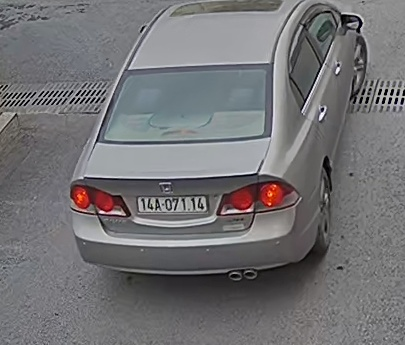vehicle plate: (136, 192, 212, 214)
